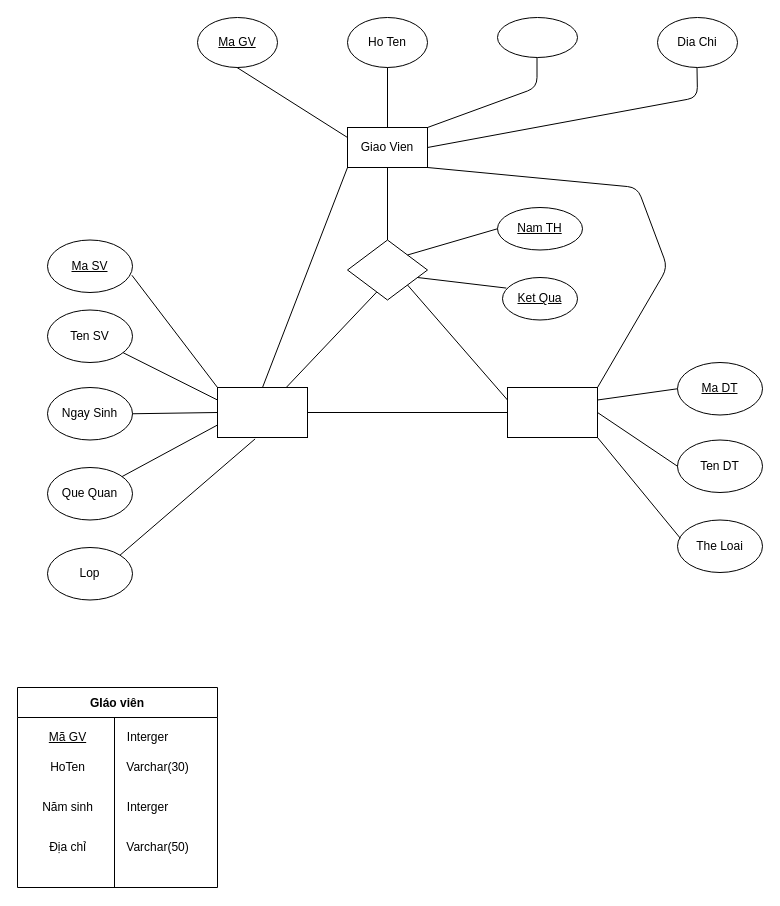
The diagram is 780 pixels wide and 906 high, and some of its shapes have lost their labels. Each missing label, with the centre of its shape:
De Tai: pixel 552 412
Huong Dan: pixel 387 269
Nam Sinh: pixel 537 37
Sinh Vien: pixel 262 412
